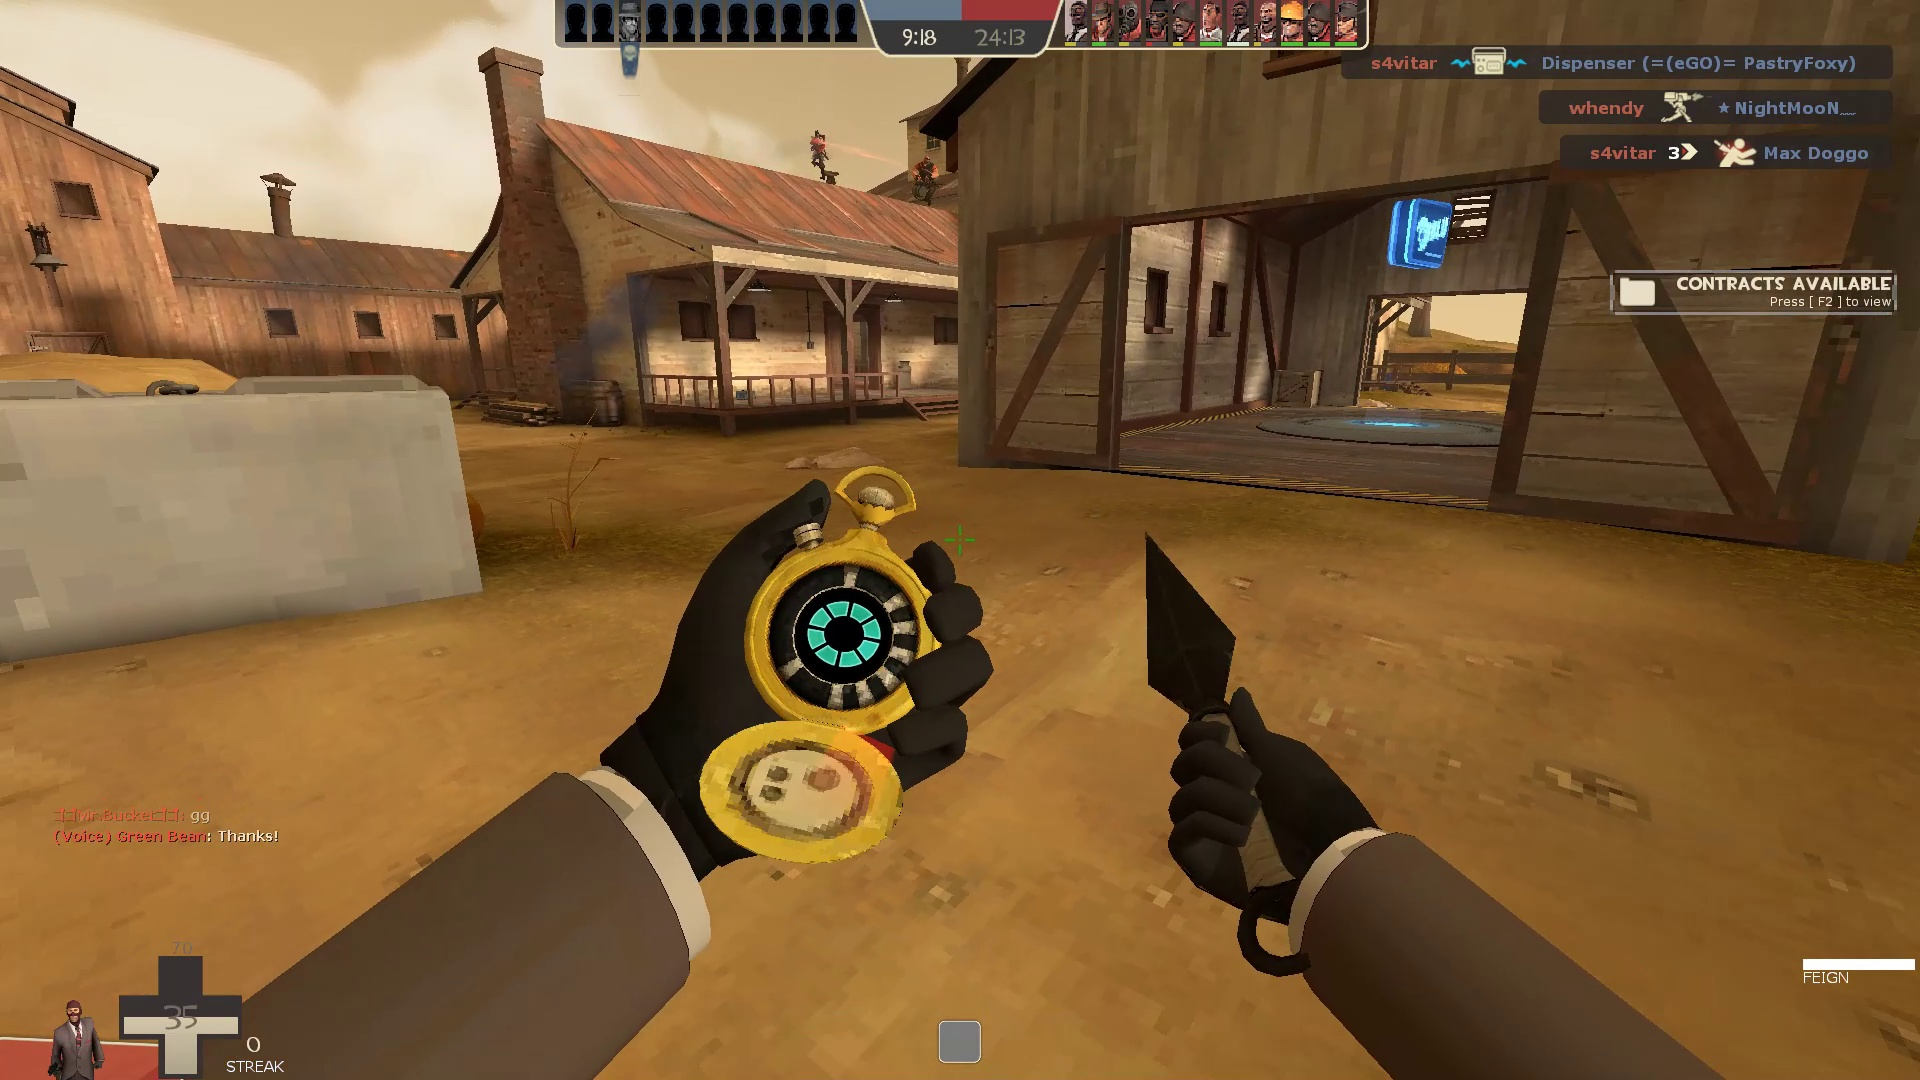red_heavy: (905, 153, 944, 214)
red_medic: (808, 125, 833, 173)
